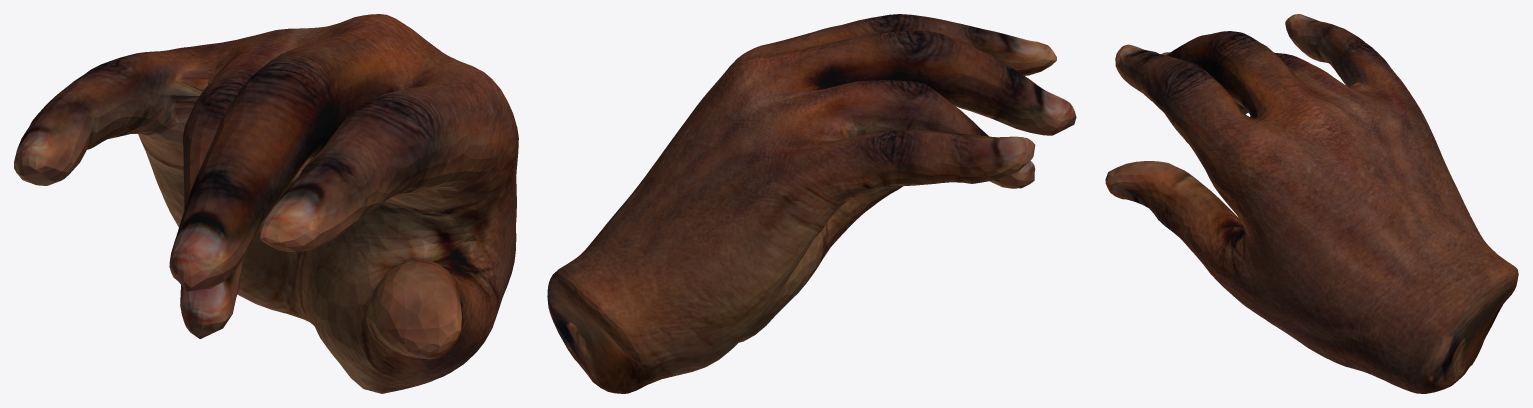
Rendered from skin.obj.
The picture shows the model from 3 angles, left to right: view 1: azimuth 30°, elevation 25°; view 2: azimuth 150°, elevation 25°; view 3: azimuth 270°, elevation 25°; orthographic projection. The views are drawn at different scales.
Size of the model in its own units: 129 by 93.99 by 131.
1 material, 1 textured.
